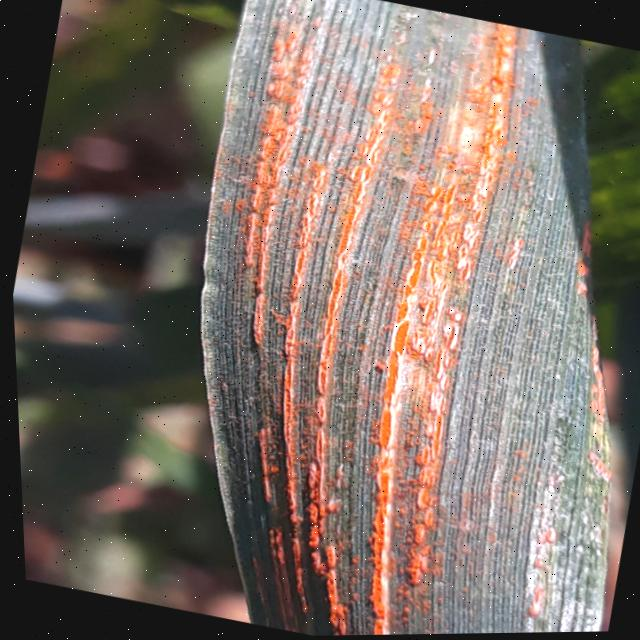yellow_rust: (114, 0, 640, 639)
